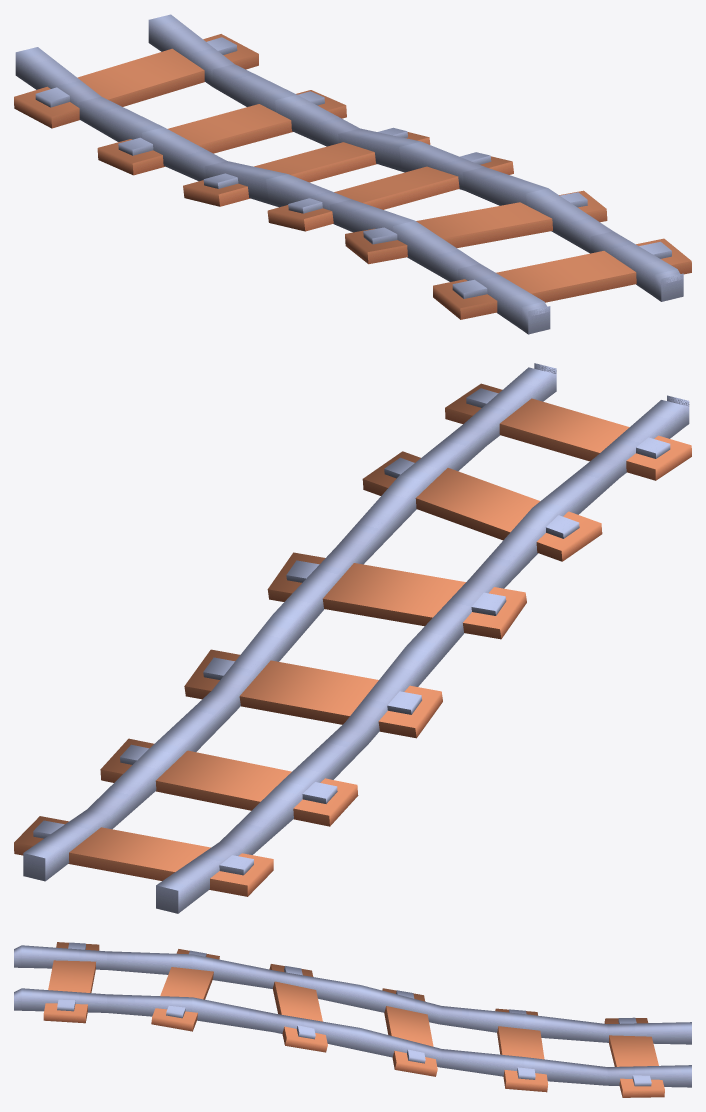
The model's file is railroad-damaged-straight-hill-complete-half.glb.
3 renders of one model, top to bottom at view 1: azimuth 30°, elevation 25°; view 2: azimuth 150°, elevation 25°; view 3: azimuth 270°, elevation 25°, orthographic. The views are drawn at different scales.
Parts seen in each view (by area): view 1: railroad-damaged-straight-hill-complete-half; view 2: railroad-damaged-straight-hill-complete-half; view 3: railroad-damaged-straight-hill-complete-half.
Part boxes in pixels (x1,y1,x2,y2): railroad-damaged-straight-hill-complete-half: [14, 14, 691, 334]; railroad-damaged-straight-hill-complete-half: [14, 363, 691, 913]; railroad-damaged-straight-hill-complete-half: [14, 942, 691, 1097].
Size of the model in its own units: 1.03 by 0.6004 by 4.
Materials: 1 (1 with a texture image).
